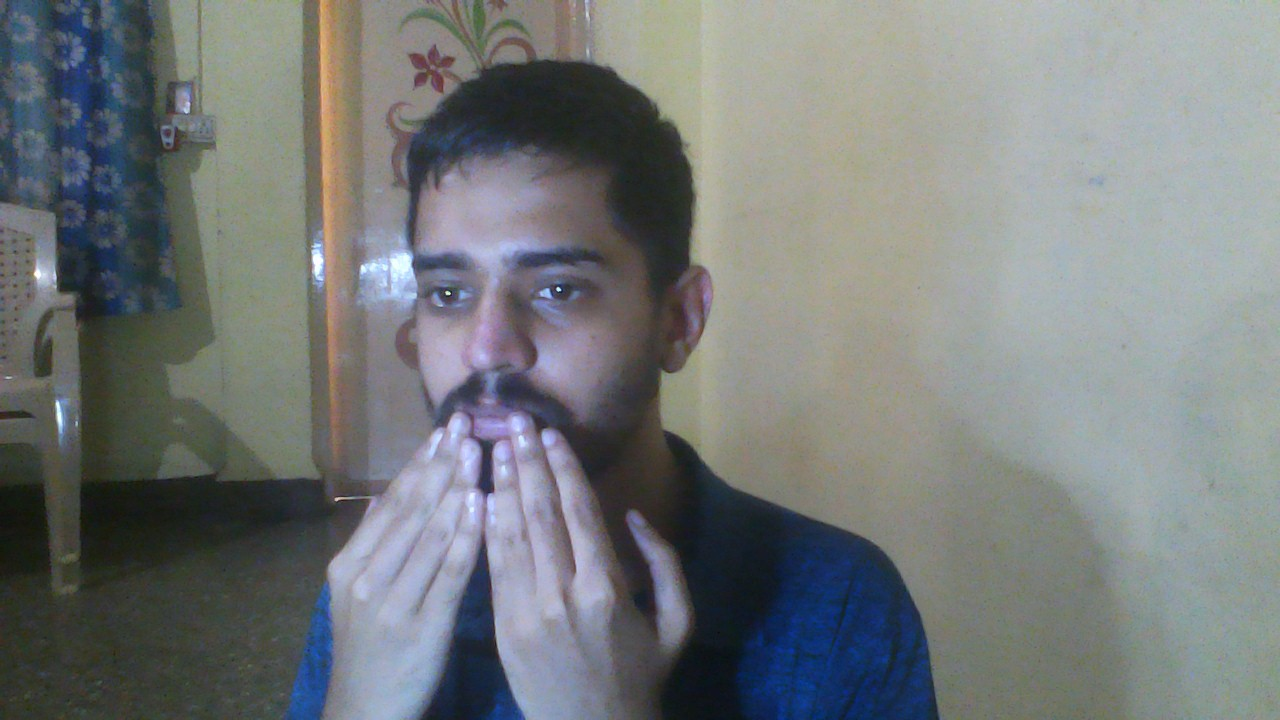thanks: (290, 397, 703, 720)
